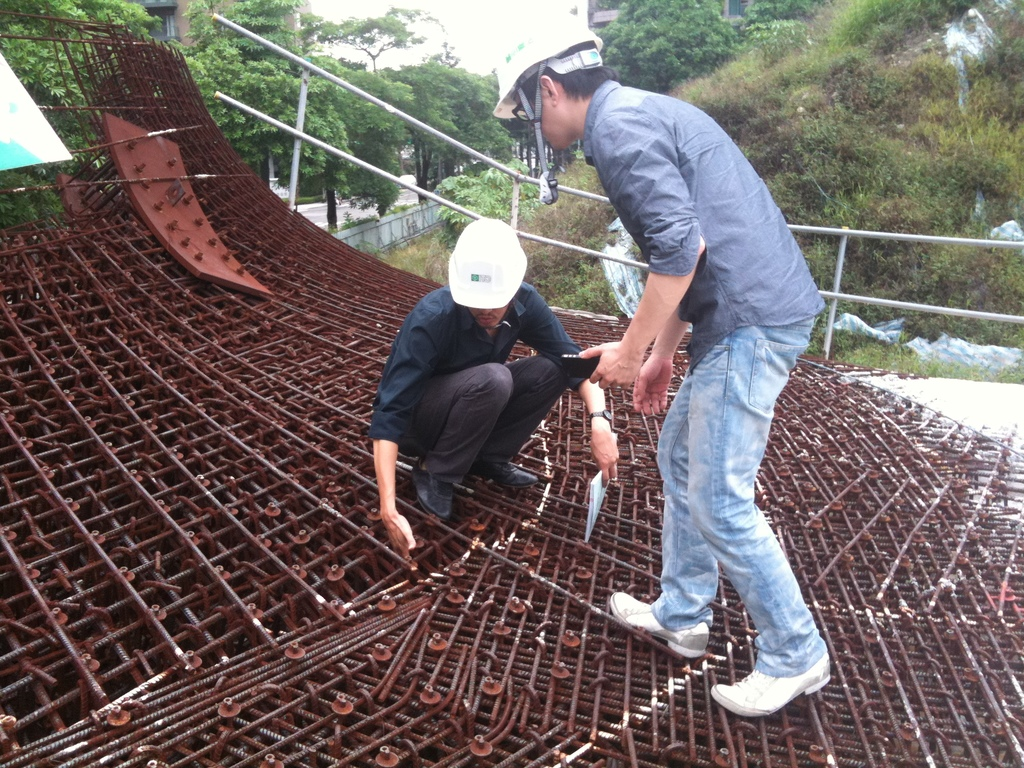Tree: (0, 0, 824, 231)
